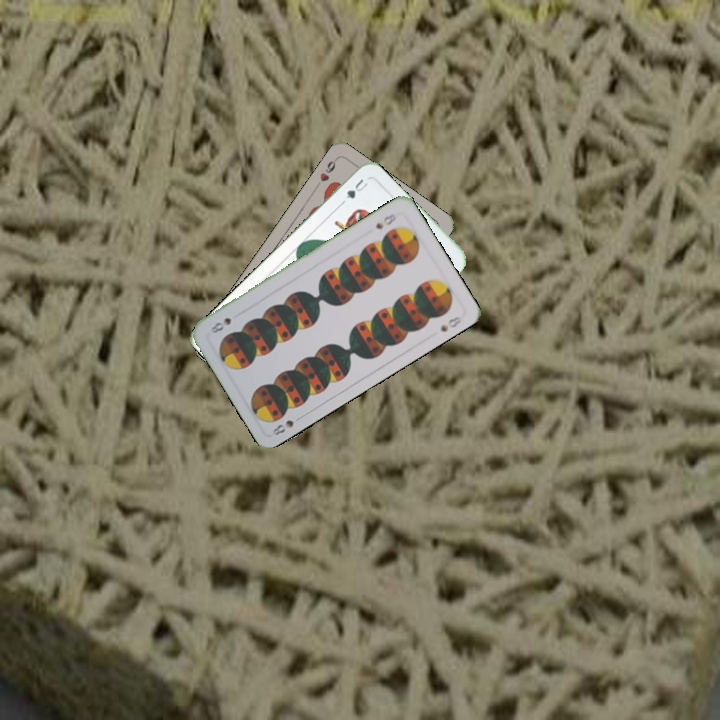GU: (338, 174, 370, 206)
H9: (312, 154, 340, 190)
S8: (268, 411, 306, 438), (372, 209, 399, 232)
